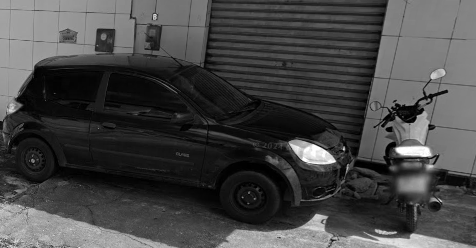car: (2, 33, 356, 229)
